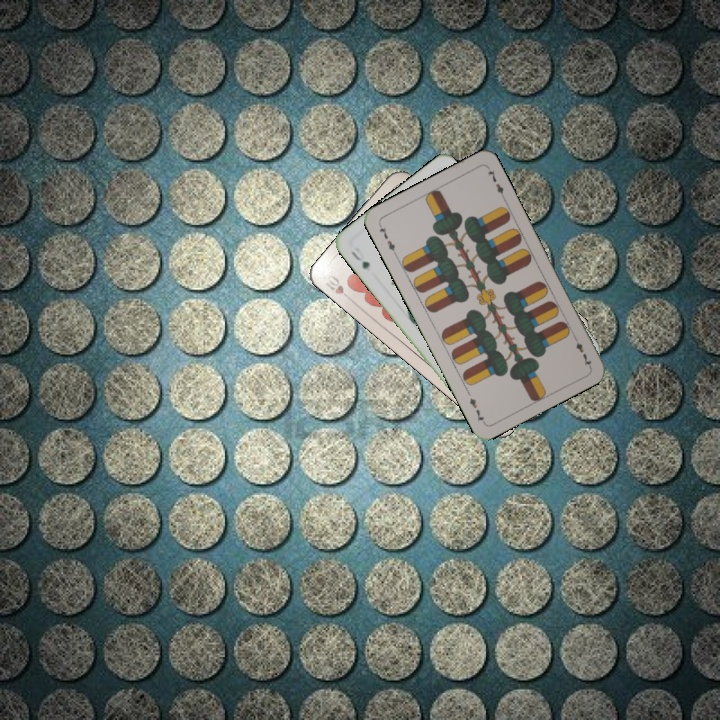E7: (569, 331, 594, 369), (375, 220, 399, 258)
GU: (347, 247, 372, 272)
H10: (318, 271, 355, 304)
